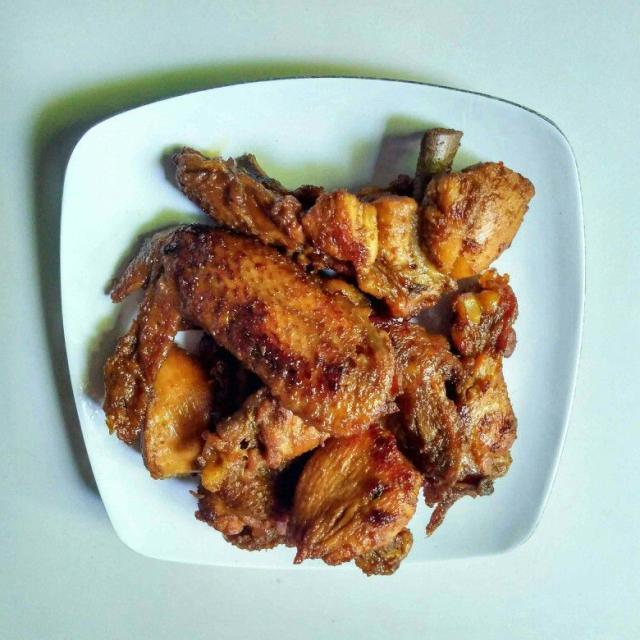ayam_goreng: (84, 100, 567, 574)
